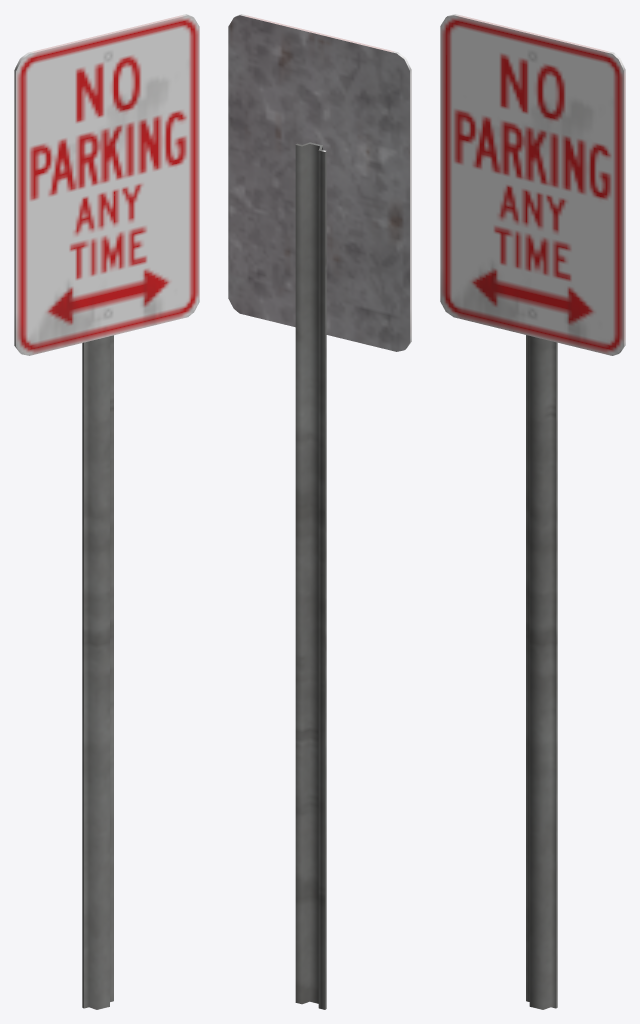
Rendered from Sign_NoParking.fbx.
The picture shows the model from 3 angles, left to right: view 1: azimuth 30°, elevation 25°; view 2: azimuth 150°, elevation 25°; view 3: azimuth 330°, elevation 25°; orthographic projection.
Visible parts, largest first — view 1: Sign_NoParking; view 2: Sign_NoParking; view 3: Sign_NoParking.
Boxes of the visible parts, x1,y1,x2,y2 form: Sign_NoParking: (14, 14, 199, 1009); Sign_NoParking: (228, 14, 411, 1009); Sign_NoParking: (440, 14, 625, 1009).
Size of the model in its own units: 51.33 by 261 by 5.14.
